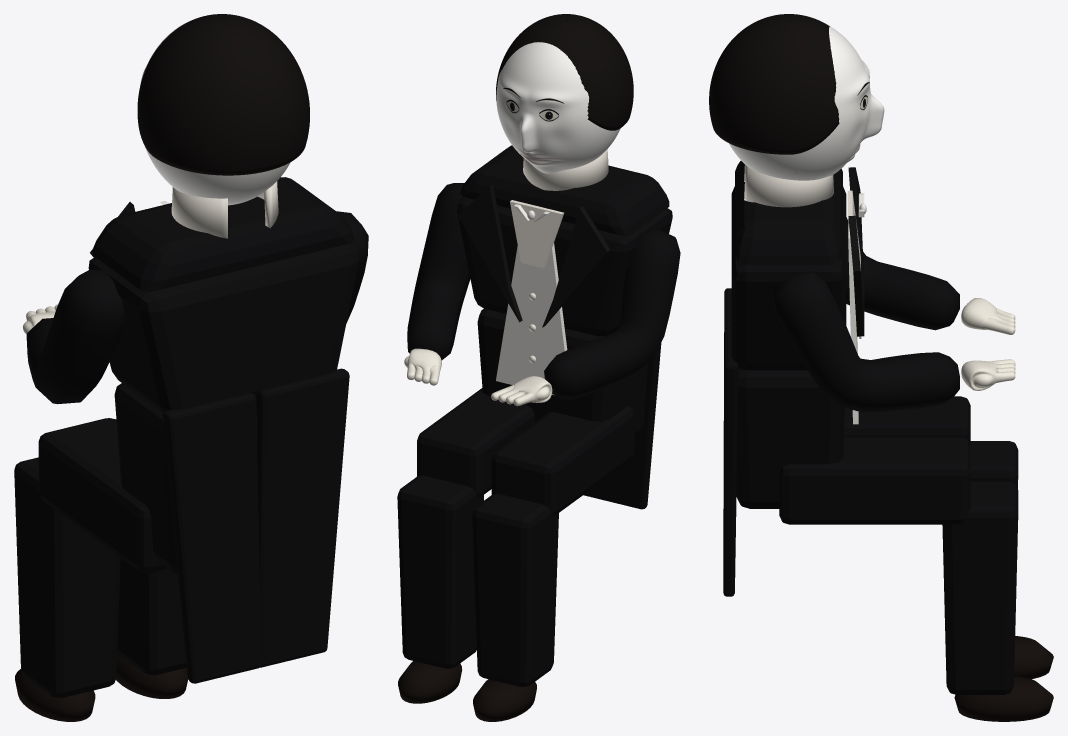
Rendered from mascara_pianista.glb.
3 views of the same model, side by side, from view 1: azimuth 30°, elevation 25°; view 2: azimuth 150°, elevation 25°; view 3: azimuth 270°, elevation 25° (orthographic). The views are drawn at different scales.
Visible parts, largest first — view 1: paleto, aba_casaca, cabelo, aba_casaca.001, canela, ombros, coxa, manga, cintura, canela.001, mascara, gola (+3 smaller); view 2: canela, canela.001, mascara, coxa, manga, paleto, ombros, coxa.001, manga.001, cabelo, colete, cintura (+9 smaller); view 3: coxa.001, cabelo, canela.001, manga.001, cintura, paleto, ombros, mascara, manga, coxa, aba_casaca.001, sapato.001 (+8 smaller).
Part boxes in pixels (left/top/right/bottom): paleto: left=88, top=242, right=358, bottom=412; aba_casaca: left=163, top=393, right=260, bottom=683; cabelo: left=137, top=14, right=309, bottom=175; aba_casaca.001: left=256, top=368, right=349, bottom=667; canela: left=14, top=457, right=120, bottom=697; ombros: left=93, top=177, right=354, bottom=291; coxa: left=38, top=418, right=167, bottom=572; manga: left=26, top=269, right=124, bottom=404; cintura: left=114, top=383, right=257, bottom=573; canela.001: left=117, top=558, right=186, bottom=675; mascara: left=140, top=21, right=290, bottom=205; gola: left=171, top=181, right=278, bottom=238; canela: left=472, top=493, right=558, bottom=686; canela.001: left=397, top=475, right=483, bottom=668; mascara: left=496, top=42, right=620, bottom=173; coxa: left=491, top=406, right=634, bottom=515; manga: left=544, top=229, right=680, bottom=399; paleto: left=457, top=196, right=672, bottom=336; ombros: left=460, top=145, right=669, bottom=235; coxa.001: left=417, top=388, right=534, bottom=497; manga.001: left=407, top=183, right=470, bottom=360; cabelo: left=496, top=14, right=633, bottom=130; colete: left=496, top=243, right=567, bottom=395; cintura: left=477, top=308, right=648, bottom=437; coxa.001: left=779, top=437, right=970, bottom=524; cabelo: left=709, top=14, right=839, bottom=154; canela.001: left=942, top=481, right=1018, bottom=694; manga.001: left=772, top=271, right=959, bottom=412; cintura: left=736, top=368, right=844, bottom=508; paleto: left=731, top=186, right=846, bottom=370; ombros: left=735, top=161, right=842, bottom=265; mascara: left=729, top=26, right=884, bottom=180; manga: left=846, top=217, right=959, bottom=330; coxa: left=844, top=396, right=970, bottom=444; aba_casaca.001: left=723, top=328, right=738, bottom=596; sapato.001: left=954, top=676, right=1053, bottom=721.
Size of the model in its own units: 0.6465 by 1.55 by 0.7209.
Materials: 11 (1 with a texture image).
